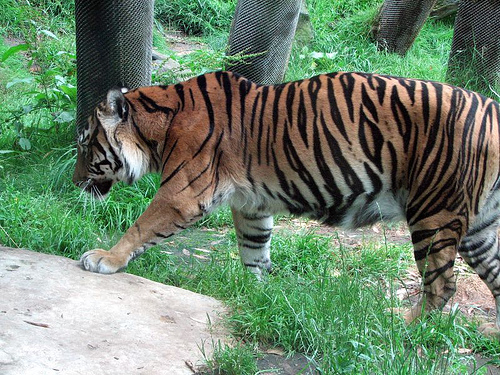Tigre: (59, 52, 498, 314)
